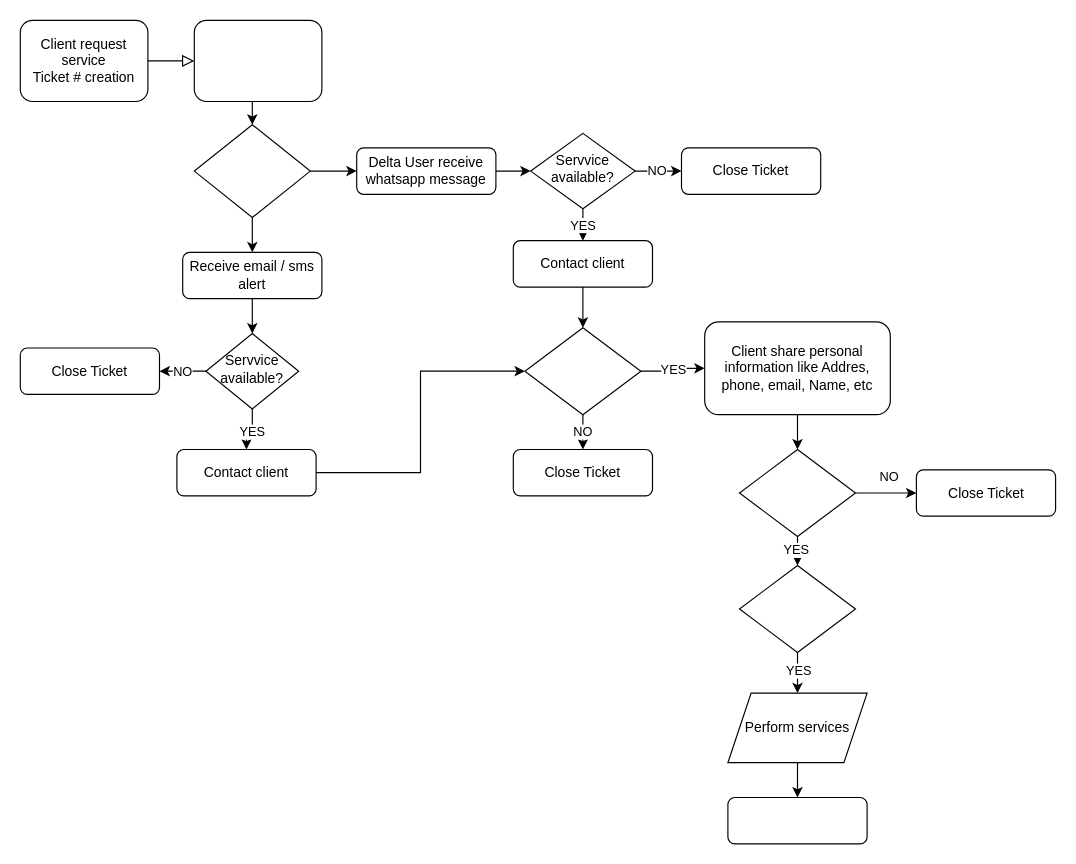
Image size: 1076x864. Some labels were removed from this diagram. Here are the shapes that lost their labels. From the top down, the box of each, then its label:
(193, 19, 322, 102): Client select service type or custom message
(193, 124, 310, 217): Auto messagin working?
(524, 327, 641, 415): Client accept service?
(738, 448, 855, 536): Client receive quotation
(738, 564, 855, 652): Client accept quitation?
(727, 796, 867, 844): Ticket Complete
